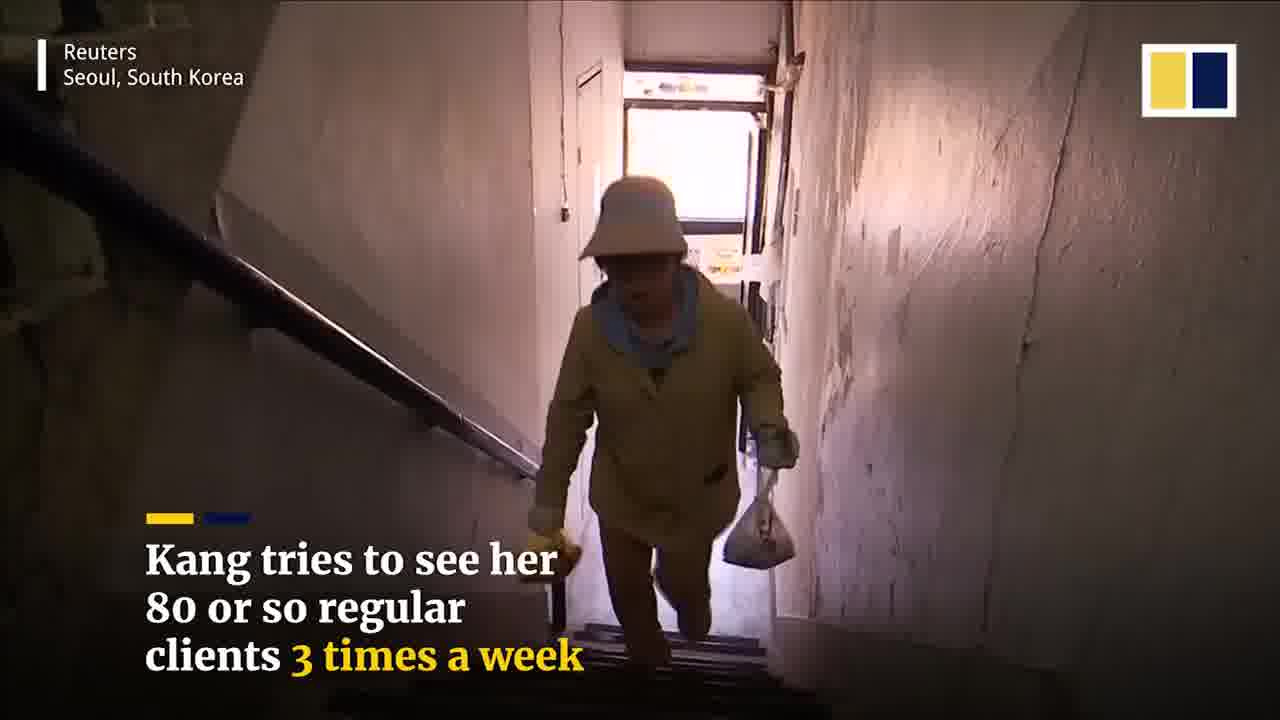Yakurut: (517, 174, 815, 686)
